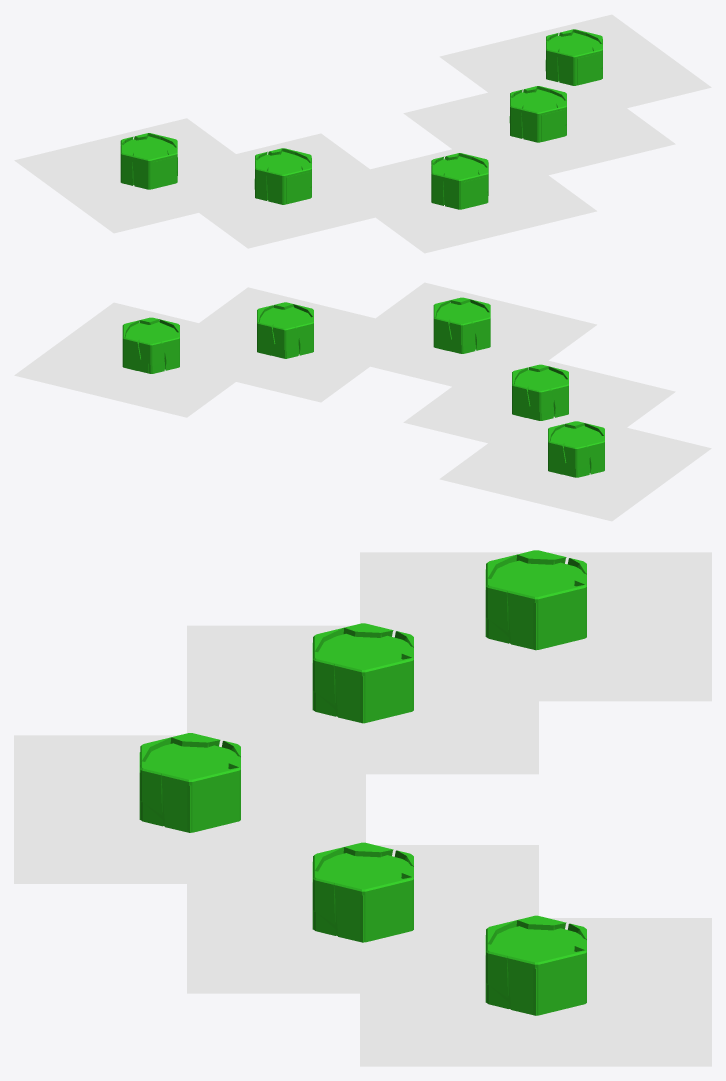
File: ArrowMoving.fbx
3 views of the same model, one above another, from view 1: azimuth 30°, elevation 25°; view 2: azimuth 150°, elevation 25°; view 3: azimuth 270°, elevation 25° (orthographic). The views are drawn at different scales.
Parts seen in each view (by area): view 1: Shadow (×5), Model (×5), HexGib01 (×5), HexGib09 (×5); view 2: Shadow (×5), Model (×5), HexGib09 (×5), HexGib05 (×5), HexGib06 (×5); view 3: Shadow (×5), HexGib04 (×5), Model (×5), HexGib02 (×5).
Boxes of the visible parts, bbox=[...] form: Shadow (×5): bbox=[14, 14, 711, 253]; Model (×5): bbox=[124, 32, 602, 208]; HexGib01 (×5): bbox=[132, 51, 594, 209]; HexGib09 (×5): bbox=[120, 41, 559, 205]; Shadow (×5): bbox=[14, 282, 711, 521]; Model (×5): bbox=[125, 302, 601, 476]; HexGib09 (×5): bbox=[161, 312, 604, 474]; HexGib05 (×5): bbox=[123, 317, 566, 474]; HexGib06 (×5): bbox=[138, 321, 589, 469]; Shadow (×5): bbox=[14, 552, 711, 1066]; HexGib04 (×5): bbox=[161, 584, 586, 1015]; Model (×5): bbox=[139, 560, 583, 1015]; HexGib02 (×5): bbox=[140, 578, 508, 997].
Size of the model in its own units: 7.03 by 0.3461 by 4.03.
